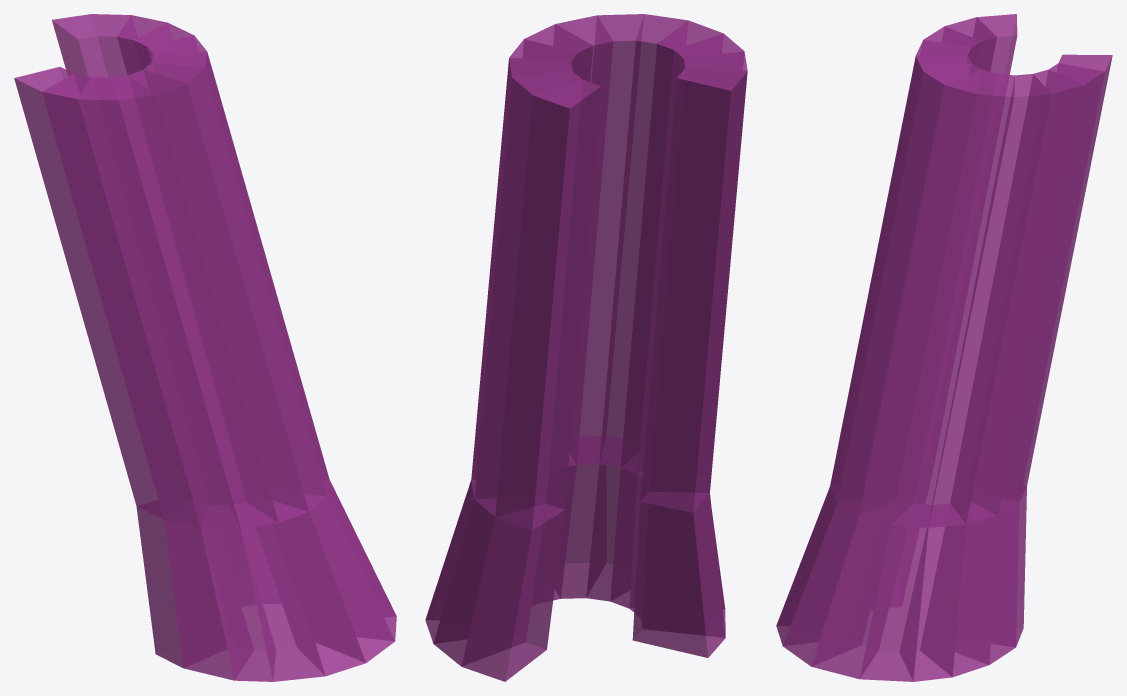
The model's file is SM_Bld_Wall_Fort_L_Corner_Tower_01_Collision.fbx.
The picture shows the model from 3 angles, left to right: view 1: azimuth 30°, elevation 25°; view 2: azimuth 150°, elevation 25°; view 3: azimuth 270°, elevation 25°; orthographic projection. The views are drawn at different scales.
Parts seen in each view (by area): view 1: SM_Bld_Wall_Fort_L_Corner_Tower_01_Collision; view 2: SM_Bld_Wall_Fort_L_Corner_Tower_01_Collision; view 3: SM_Bld_Wall_Fort_L_Corner_Tower_01_Collision.
Boxes of the visible parts, x1,y1,x2,y2 form: SM_Bld_Wall_Fort_L_Corner_Tower_01_Collision: [14, 14, 396, 681]; SM_Bld_Wall_Fort_L_Corner_Tower_01_Collision: [425, 14, 747, 681]; SM_Bld_Wall_Fort_L_Corner_Tower_01_Collision: [776, 14, 1112, 681].
Bounding box in the file's own units: 1400 × 2410 × 1398.
